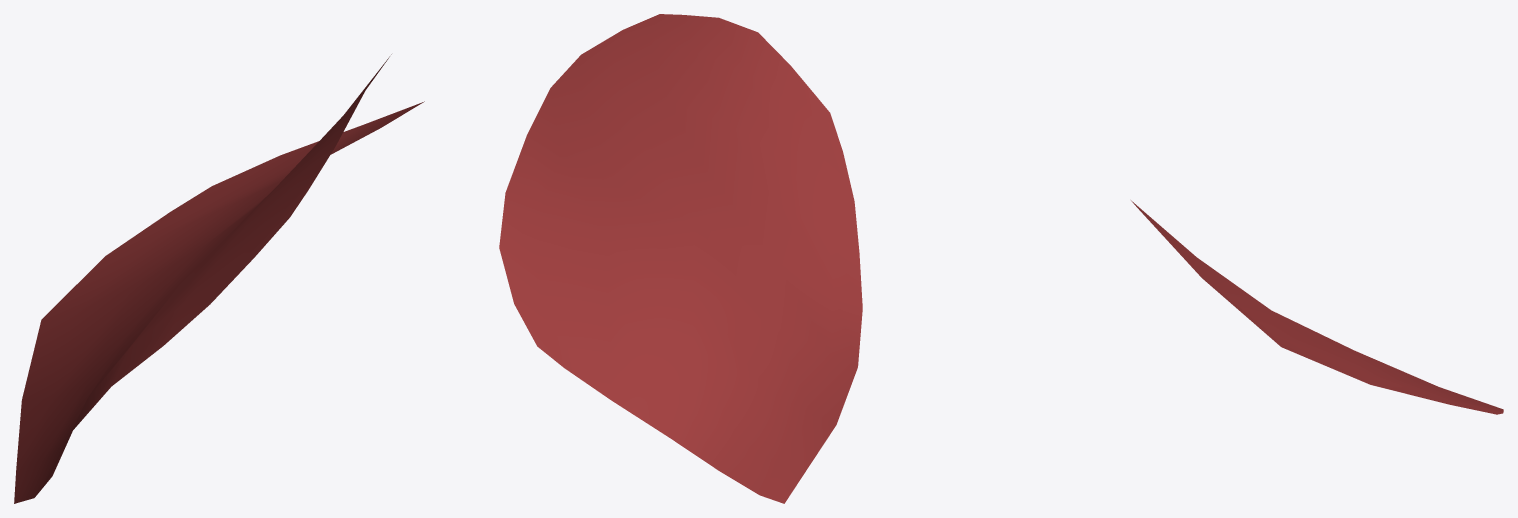
File: lateral-subtendinous-bursa-of-gastrocnemius-muscle-r.glb
The picture shows the model from 3 angles, left to right: view 1: azimuth 30°, elevation 25°; view 2: azimuth 150°, elevation 25°; view 3: azimuth 270°, elevation 25°; orthographic projection. The views are drawn at different scales.
Parts seen in each view (by area): view 1: Lateral subtendinous bursa of gastrocnemius muscle.r; view 2: Lateral subtendinous bursa of gastrocnemius muscle.r; view 3: Lateral subtendinous bursa of gastrocnemius muscle.r.
Part boxes in pixels (box(x1,y1,x2,y2)): Lateral subtendinous bursa of gastrocnemius muscle.r: box(14, 54, 424, 503); Lateral subtendinous bursa of gastrocnemius muscle.r: box(499, 14, 862, 503); Lateral subtendinous bursa of gastrocnemius muscle.r: box(1131, 200, 1503, 414).
Bounding box in the file's own units: 0.0154 × 0.0178 × 0.0154.
